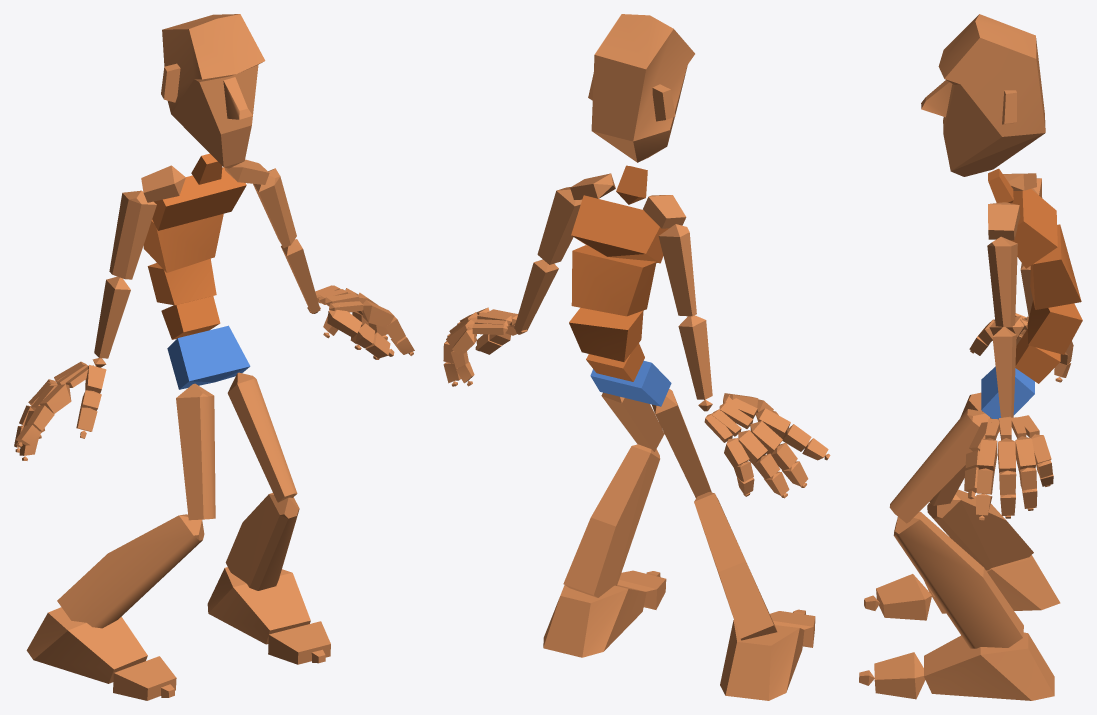
3 renders of one model, left to right at view 1: azimuth 30°, elevation 25°; view 2: azimuth 150°, elevation 25°; view 3: azimuth 270°, elevation 25°, orthographic. The views are drawn at different scales.
Visible parts, largest first — view 1: BOPED_Head, BOPED_R_leg, BOPED_R_foot, BOPED_R_foot01, BOPED_L_leg, BOPED_R_legup, BOPED_L_legup, Bone01, Bone05, Bone04, BOPED_R_arm_upper, Bone03 (+10 smaller); view 2: BOPED_Head, BOPED_L_leg, BOPED_R_foot01, BOPED_R_foot, BOPED_R_leg, Bone04, Bone05, Bone03, BOPED_R_arm_upper, BOPED_R_legup, BOPED_L_arm_upper, Bone01 (+9 smaller); view 3: BOPED_Head, BOPED_L_leg, BOPED_R_foot01, BOPED_R_leg, BOPED_L_legup, BOPED_R_foot, Bone05, Bone04, BOPED_L_arm_upper, Bone03, BOPED_R_foot_toe01, BOPED_R_foot_toe04 (+15 smaller).
Boxes of the visible parts, <box> form: BOPED_Head: <box>161,14,265,168</box>; BOPED_R_leg: <box>57,514,204,628</box>; BOPED_R_foot: <box>26,607,147,683</box>; BOPED_R_foot01: <box>207,567,310,644</box>; BOPED_L_leg: <box>225,493,299,590</box>; BOPED_R_legup: <box>176,383,215,520</box>; BOPED_L_legup: <box>227,372,297,502</box>; Bone01: <box>167,325,250,389</box>; Bone05: <box>152,167,246,230</box>; Bone04: <box>143,214,223,272</box>; BOPED_R_arm_upper: <box>109,190,156,279</box>; Bone03: <box>147,258,216,305</box>; BOPED_Head: <box>588,14,694,162</box>; BOPED_L_leg: <box>563,444,660,597</box>; BOPED_R_foot01: <box>543,585,646,657</box>; BOPED_R_foot: <box>720,620,804,700</box>; BOPED_R_leg: <box>694,492,777,640</box>; Bone04: <box>571,245,656,316</box>; Bone05: <box>571,195,668,263</box>; Bone03: <box>569,307,643,361</box>; BOPED_R_arm_upper: <box>658,224,696,316</box>; BOPED_R_legup: <box>651,389,711,498</box>; BOPED_L_arm_upper: <box>537,187,581,264</box>; Bone01: <box>590,361,671,406</box>; BOPED_Head: <box>921,14,1045,176</box>; BOPED_L_leg: <box>893,511,1023,648</box>; BOPED_R_foot01: <box>924,632,1054,700</box>; BOPED_R_leg: <box>927,489,1033,570</box>; BOPED_L_legup: <box>889,409,990,523</box>; BOPED_R_foot: <box>924,555,1060,613</box>; Bone05: <box>1010,189,1057,268</box>; Bone04: <box>1030,224,1081,309</box>; BOPED_L_arm_upper: <box>987,236,1017,326</box>; Bone03: <box>1027,300,1082,354</box>; BOPED_R_foot_toe01: <box>876,574,931,620</box>; BOPED_R_foot_toe04: <box>874,652,925,699</box>.
Bounding box in the file's own units: 117 × 178 × 56.5.
